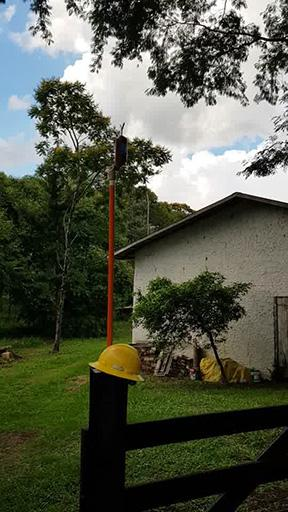Detector_Tensao_Contato: (112, 122, 129, 167)
Vara_Manobra: (106, 166, 115, 348)
